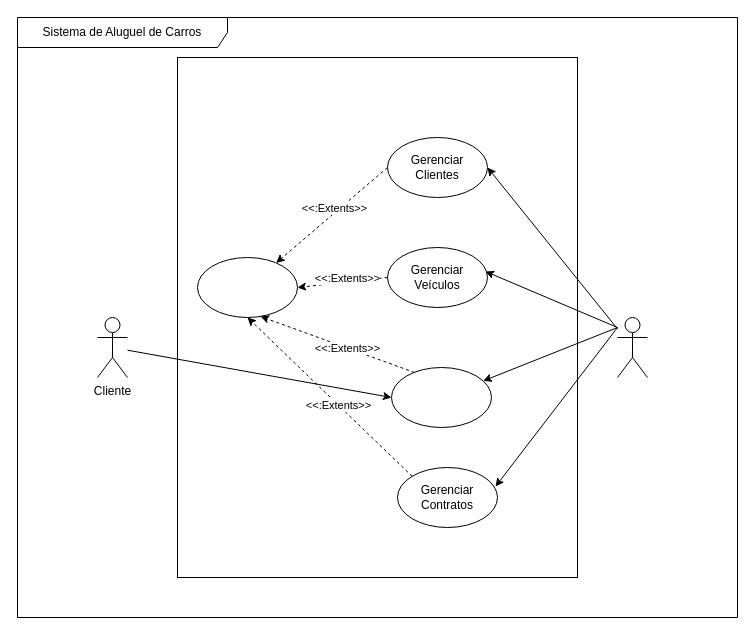
Some shapes in this 755 by 635 pixel diagram are drawn without their labels. The shapes that lost their labels are listed below. From the top down, each one's box as (x1, y1, x2, y2) in pixels, then its label:
(196, 256, 298, 318): CRUD
(616, 316, 648, 378): Funcionário
(390, 366, 492, 428): Gerenciar Pedidos
